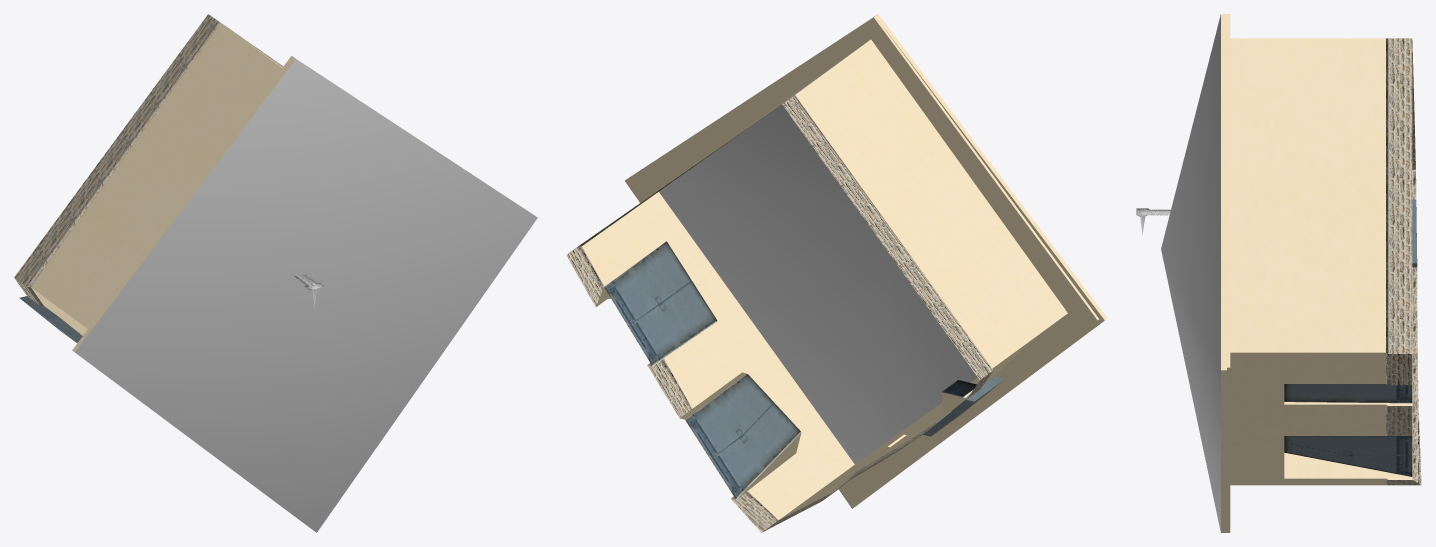
File: Estonia6a_1-origo.obj
The picture shows the model from 3 angles, left to right: view 1: azimuth 30°, elevation 25°; view 2: azimuth 150°, elevation 25°; view 3: azimuth 270°, elevation 25°; orthographic projection. The views are drawn at different scales.
Visible parts, largest first — view 1: polySurface1; view 2: polySurface1; view 3: polySurface1.
Boxes of the visible parts, bbox=[...] form: polySurface1: bbox=[14, 14, 537, 532]; polySurface1: bbox=[566, 14, 1107, 532]; polySurface1: bbox=[1136, 14, 1421, 532].
Size of the model in its own units: 11.12 by 11 by 5.59.
